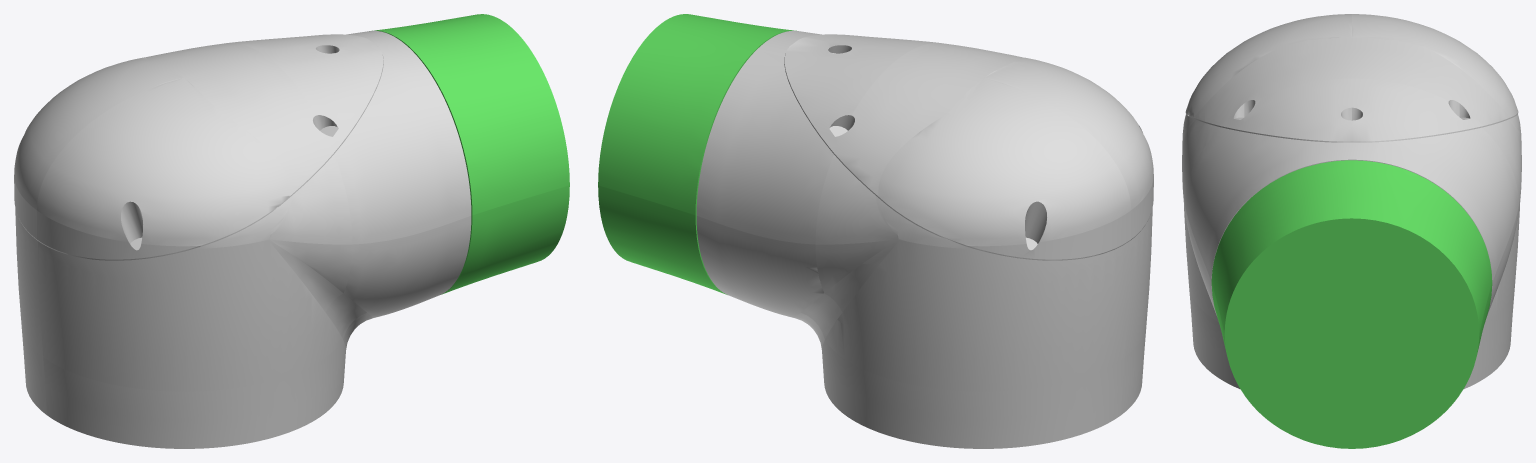
3 renders of one model, left to right at view 1: azimuth 30°, elevation 25°; view 2: azimuth 150°, elevation 25°; view 3: azimuth 270°, elevation 25°, orthographic.
Visible parts, largest first — view 1: Mesh_0.011; view 2: Mesh_0.011; view 3: Mesh_0.011.
Boxes of the visible parts, bbox=[...] form: Mesh_0.011: bbox=[14, 14, 569, 448]; Mesh_0.011: bbox=[598, 14, 1153, 448]; Mesh_0.011: bbox=[1182, 14, 1521, 448].
Bounding box in the file's own units: 0.2235 × 0.1389 × 0.1404.
